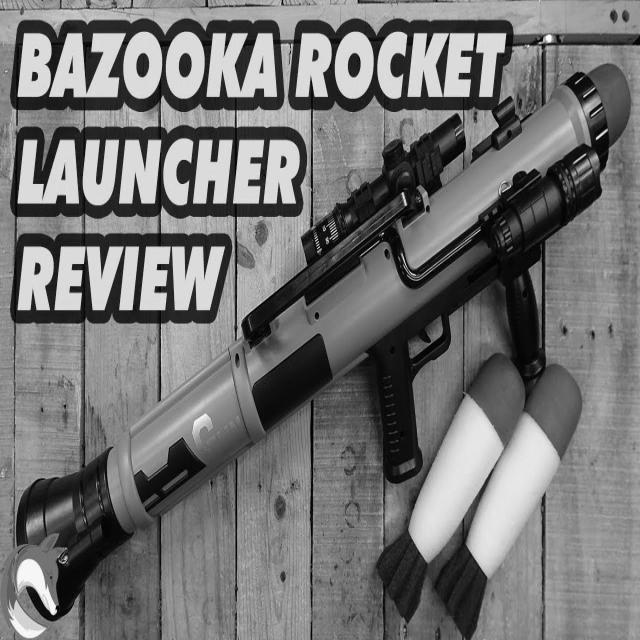Lancher: (16, 45, 618, 640)
